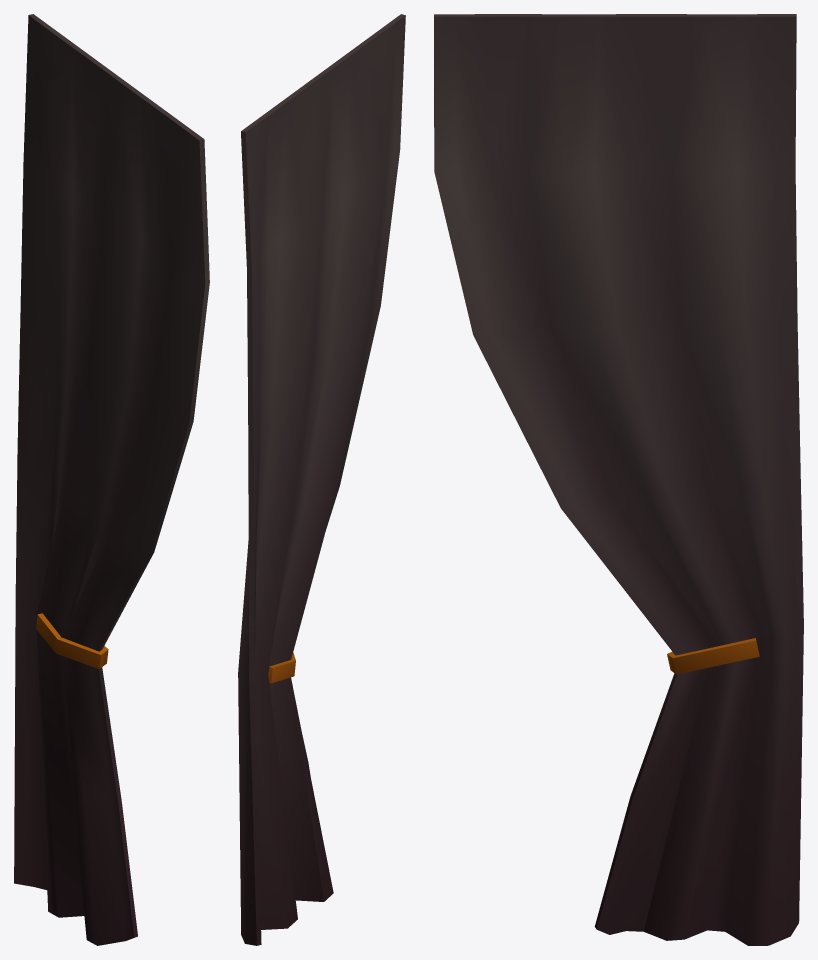
The model's file is TSP_Curtain_01B.L.fbx.
The picture shows the model from 3 angles, left to right: view 1: azimuth 30°, elevation 25°; view 2: azimuth 150°, elevation 25°; view 3: azimuth 270°, elevation 25°; orthographic projection. The views are drawn at different scales.
Parts seen in each view (by area): view 1: TSP_Curtain_01B.L; view 2: TSP_Curtain_01B.L; view 3: TSP_Curtain_01B.L.
Boxes of the visible parts, x1,y1,x2,y2 form: TSP_Curtain_01B.L: (14,14,209,945); TSP_Curtain_01B.L: (238,14,405,945); TSP_Curtain_01B.L: (434,14,803,945).
Bounding box in the file's own units: 0.1128 × 2.5 × 0.9088.
